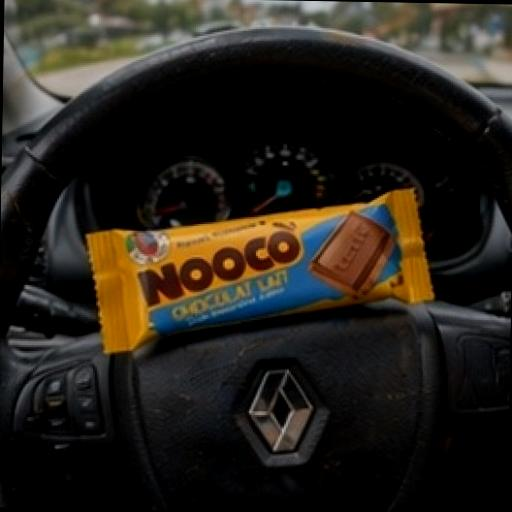nooco: (74, 176, 467, 387)
